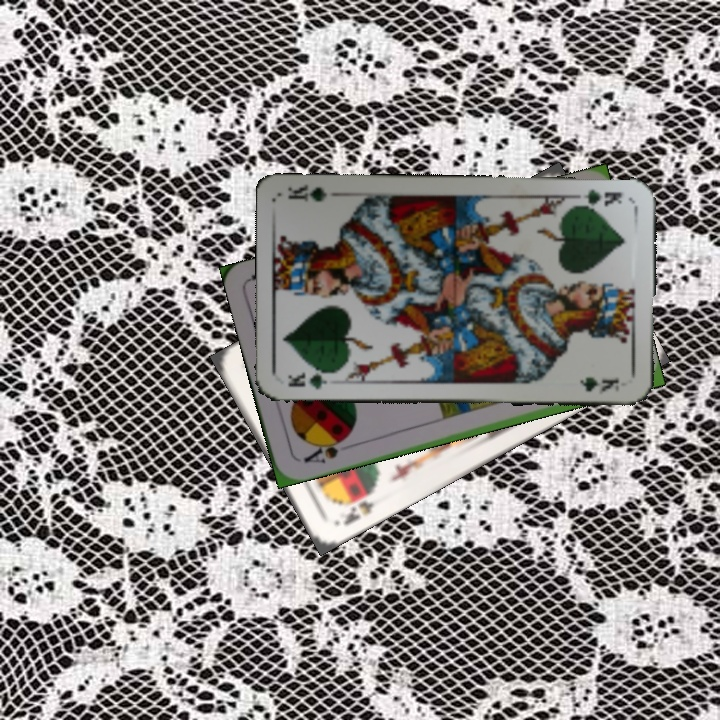GK: (571, 185, 625, 211), (284, 367, 338, 392)
SA: (299, 433, 352, 466)
SK: (330, 486, 378, 529)
